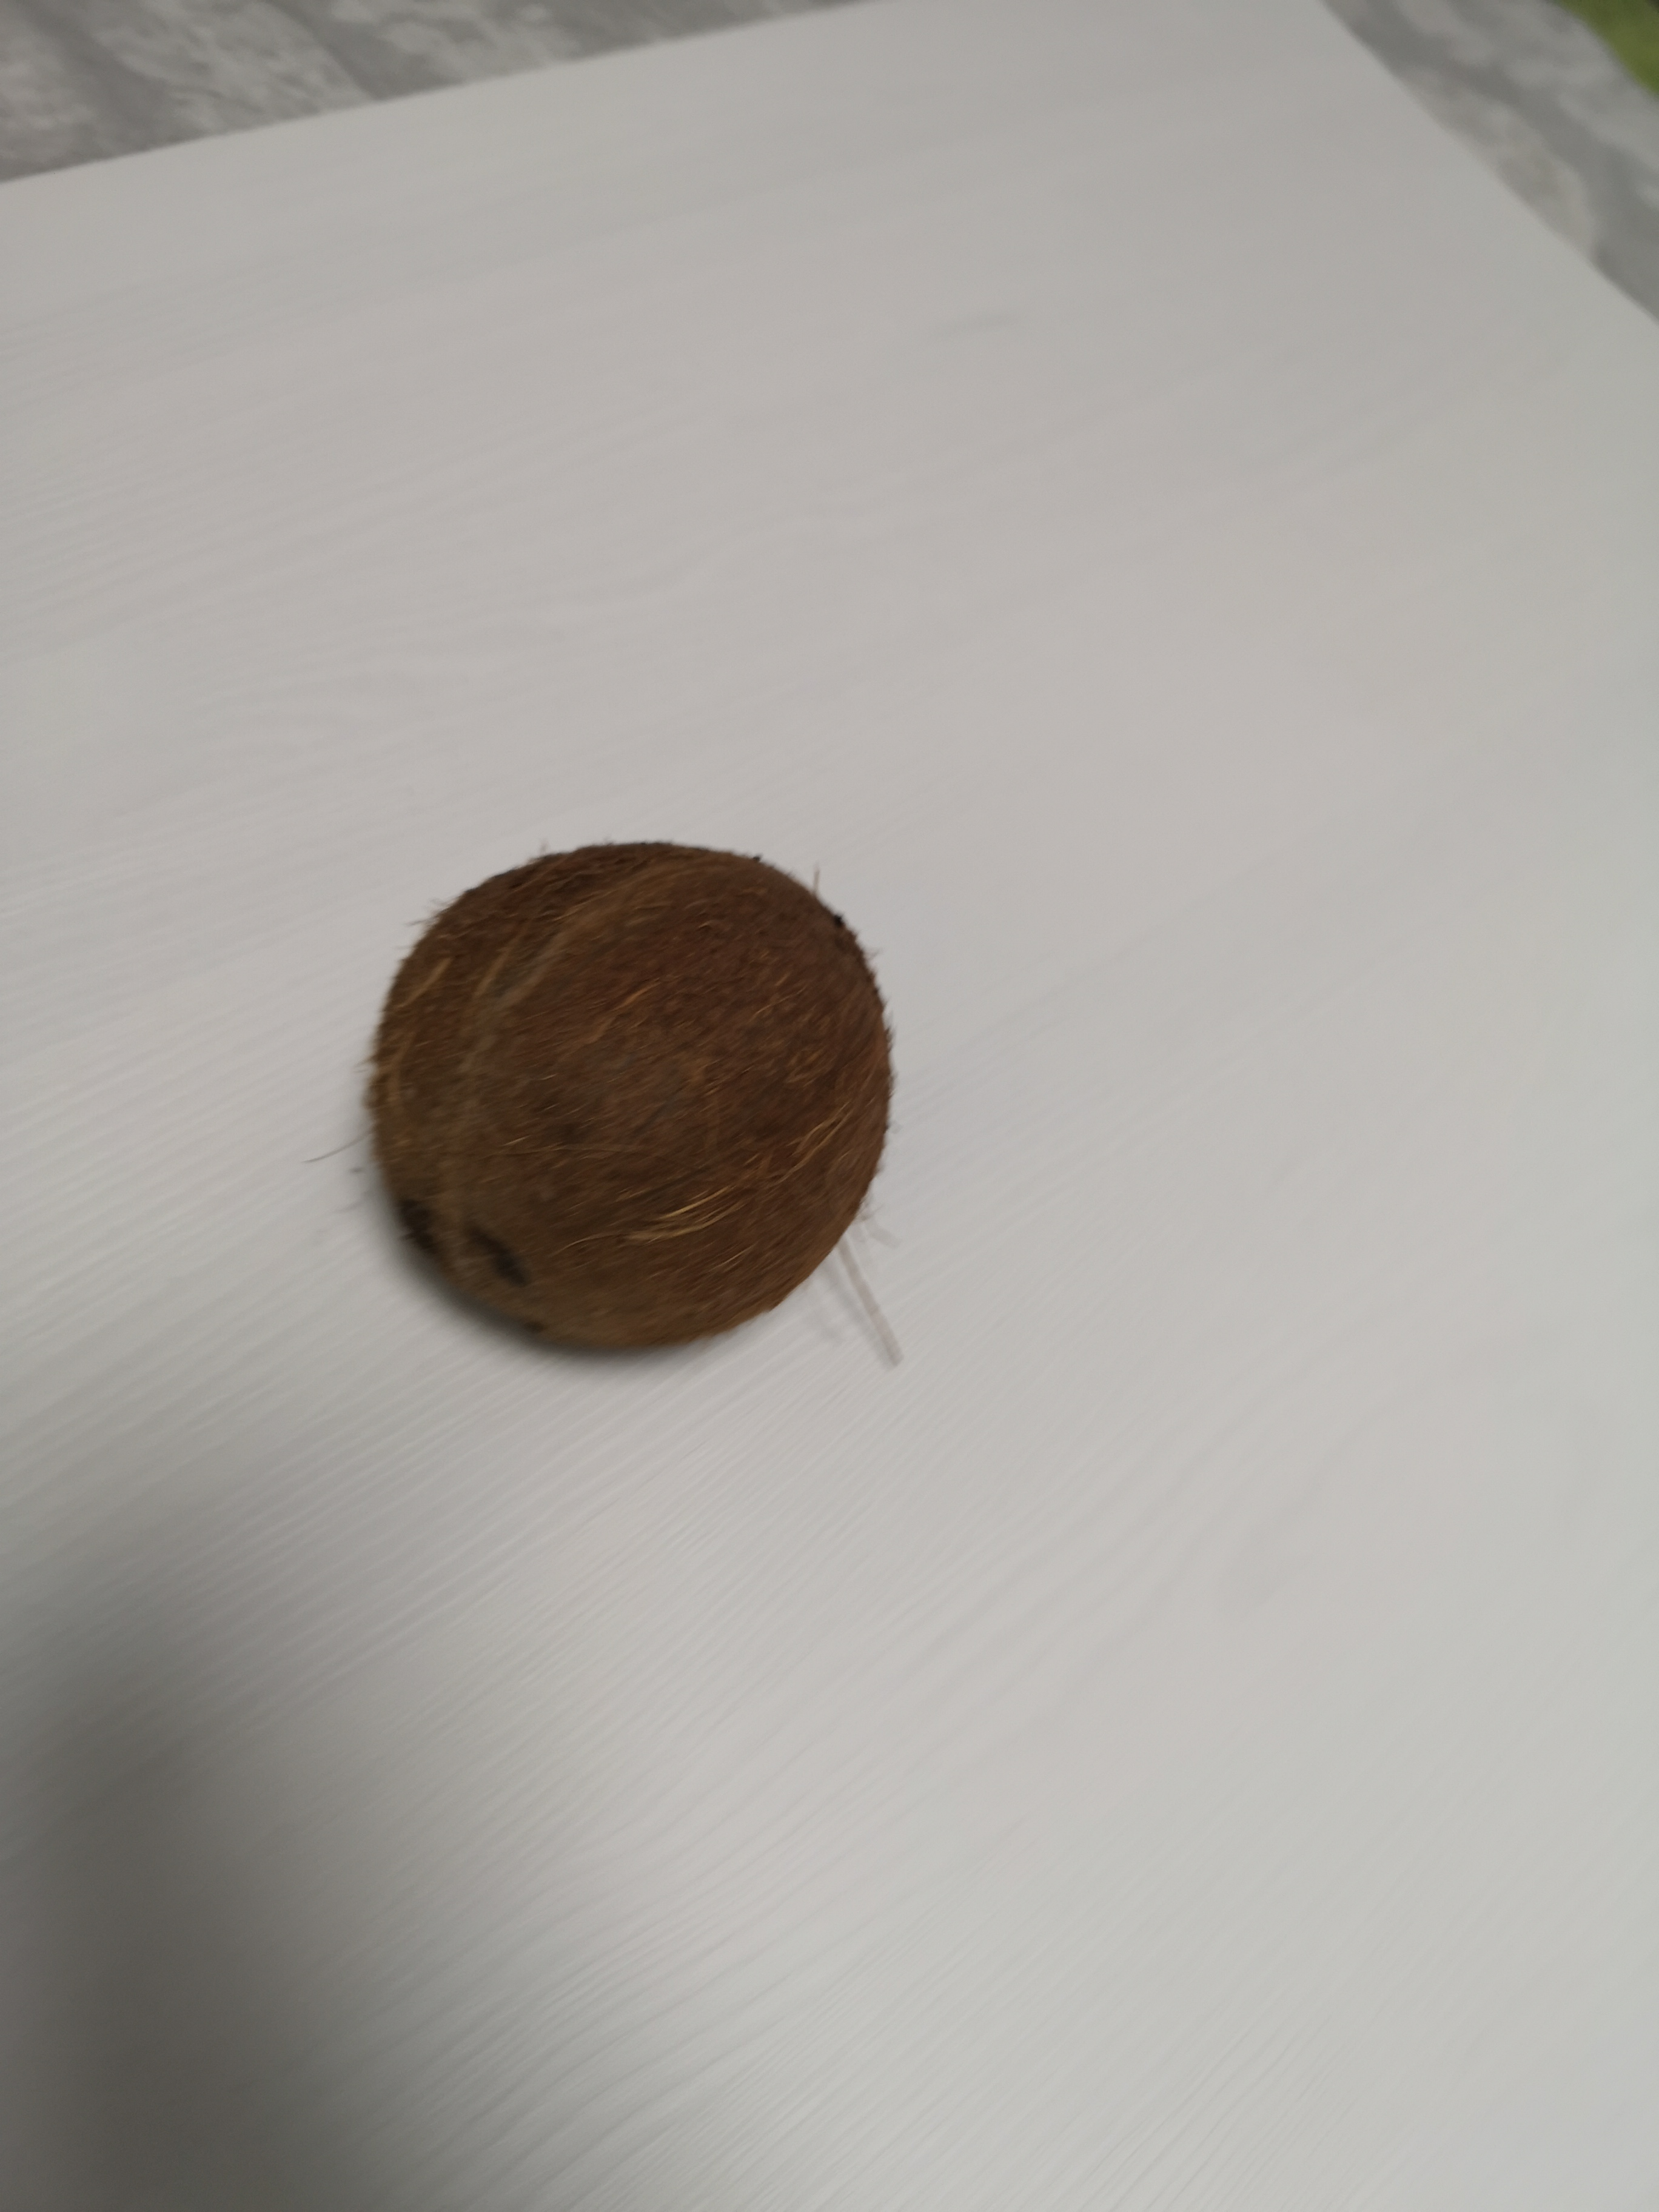coconut: (356, 833, 906, 1366)
